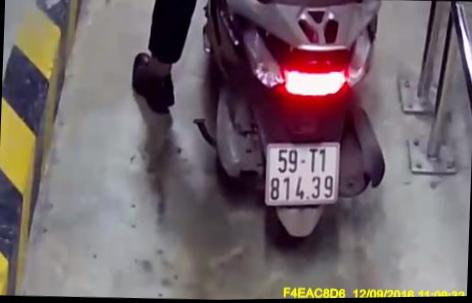LP: (264, 143, 342, 208)
